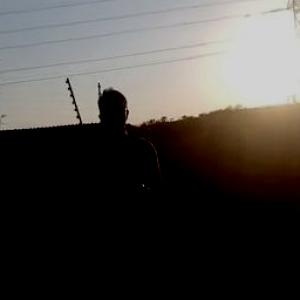follow: (82, 81, 170, 299)
